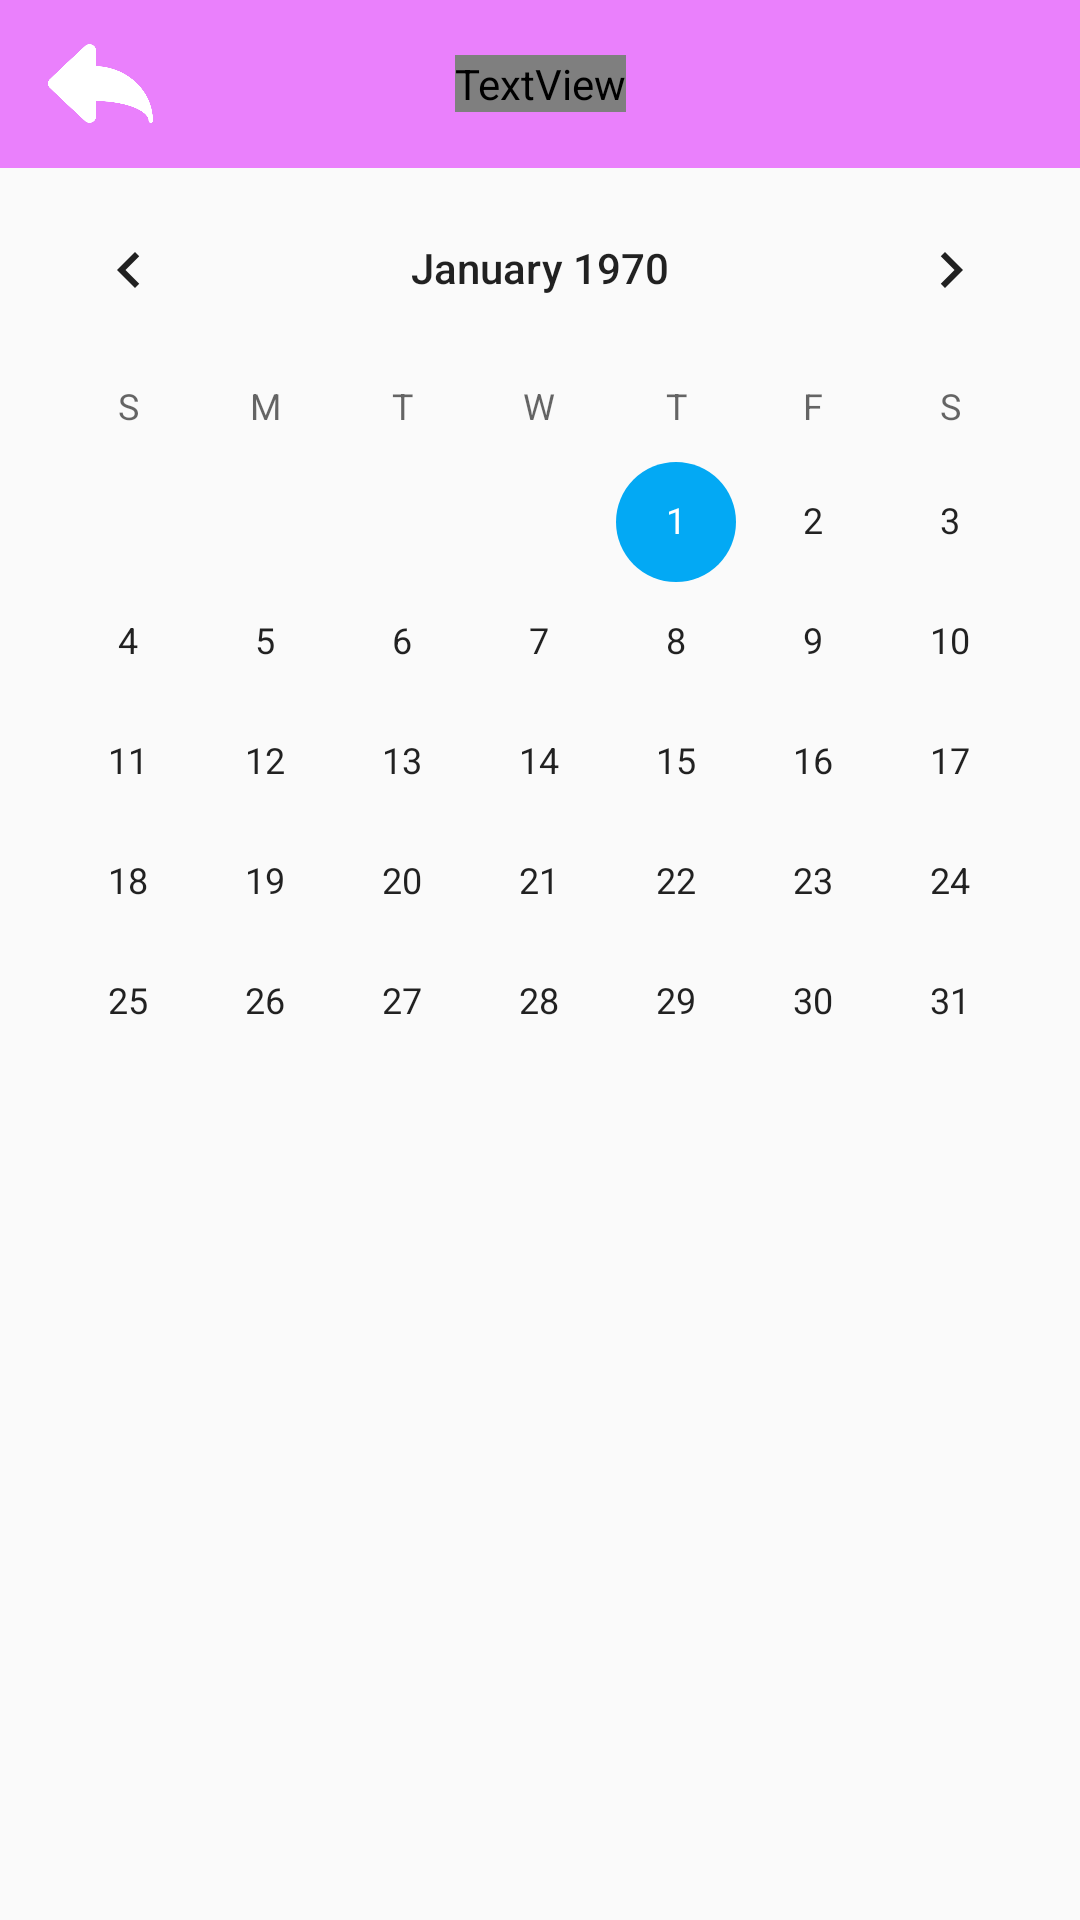

Locate icon controls on the screen. Image size 1080×1920, boxes as (x1, y1, x2, y2).
arrow: (48, 44, 153, 123)
